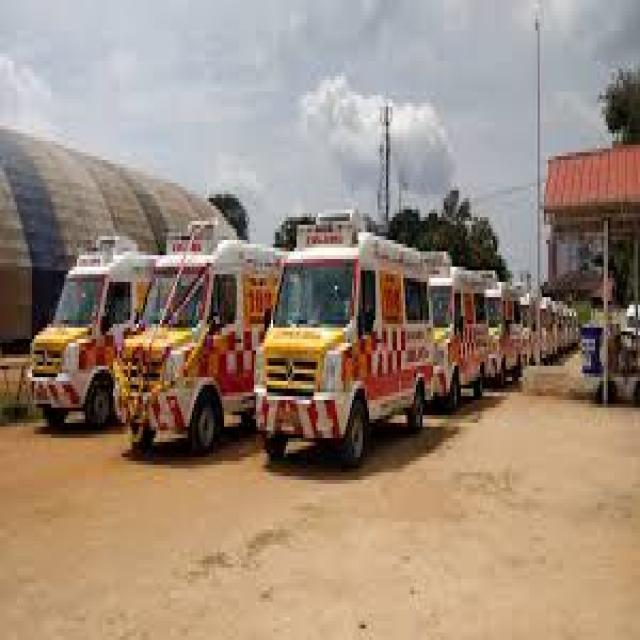ambulance: (253, 213, 436, 473), (114, 224, 261, 462), (18, 238, 121, 436), (435, 275, 489, 415)
